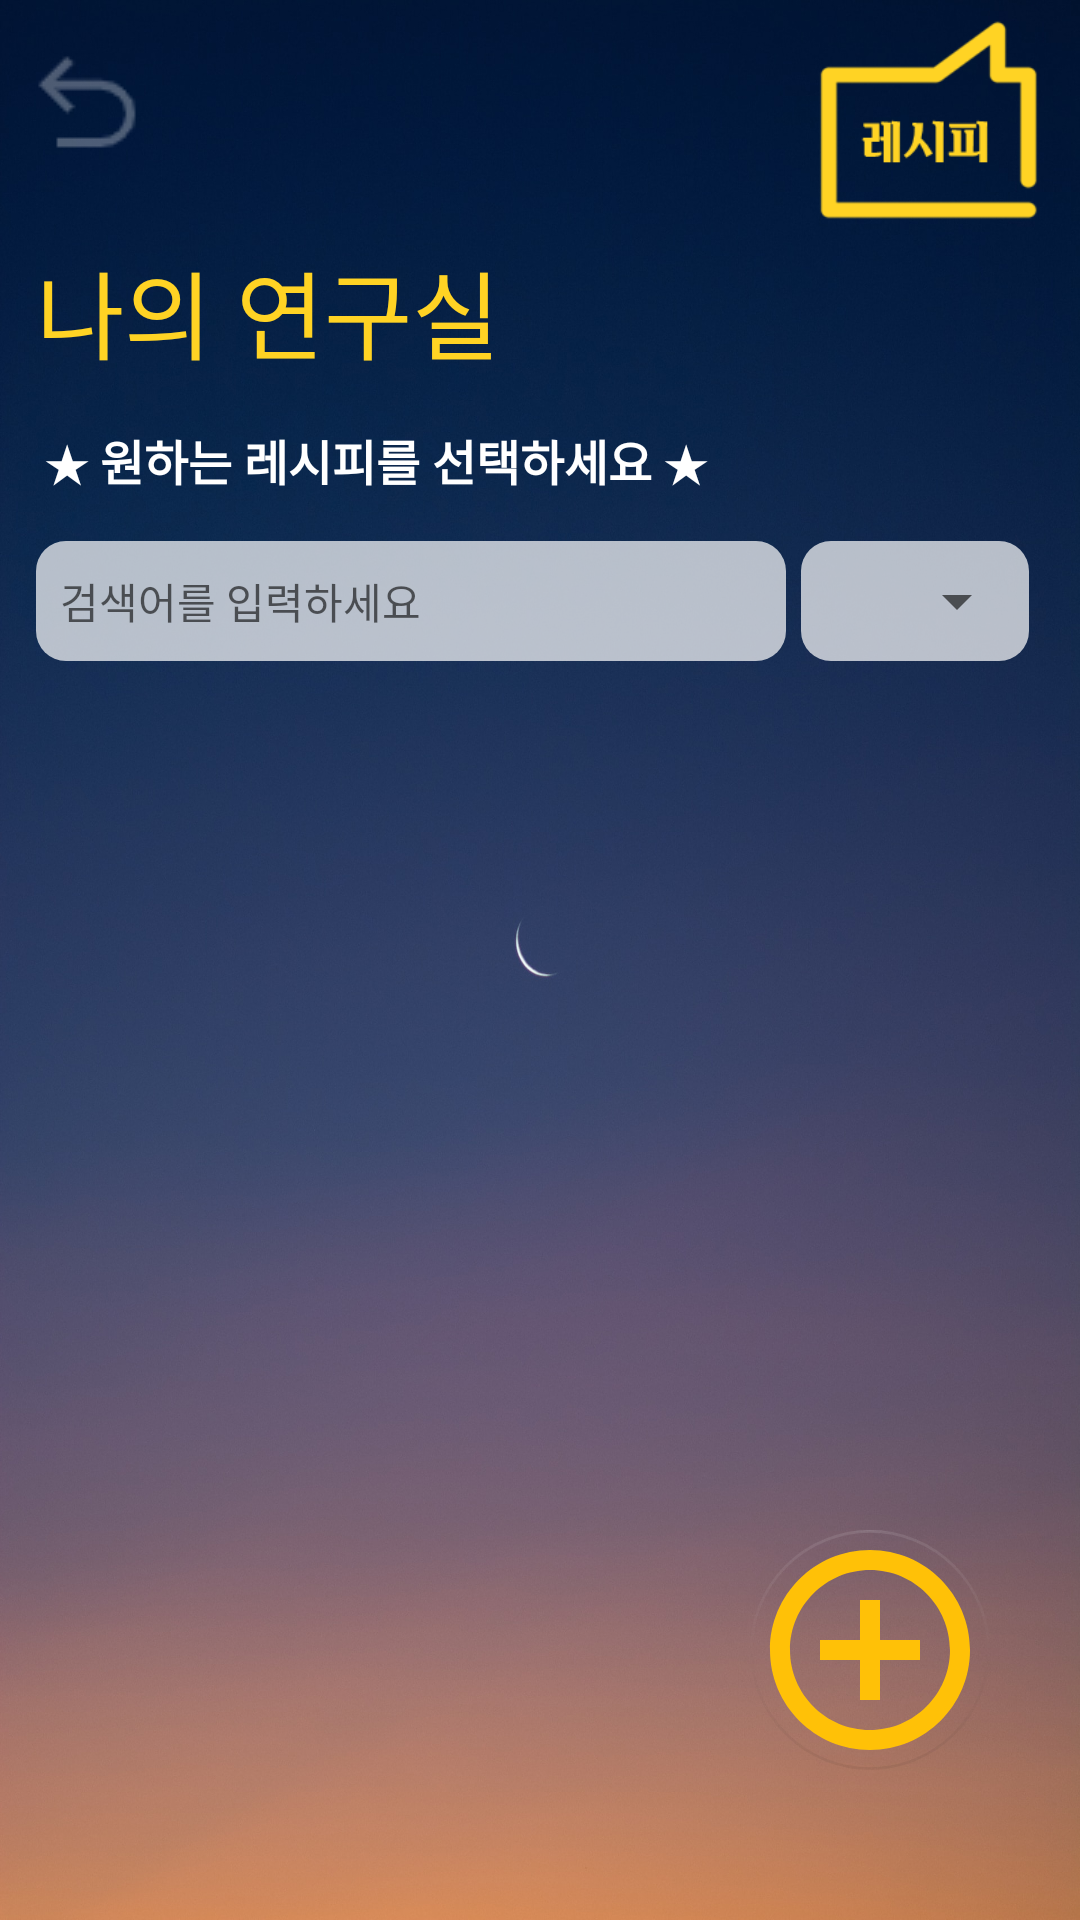

Point at icon controls on the screen. Image size 1080px×1920px, points as point (x, y).
add circle: point (870, 1650)
back: point (87, 102)
